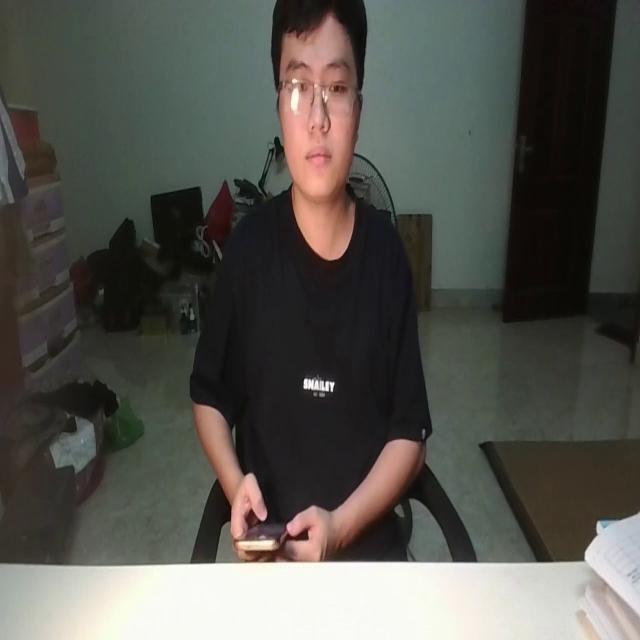phone: (234, 517, 293, 556)
student: (183, 1, 430, 564)
